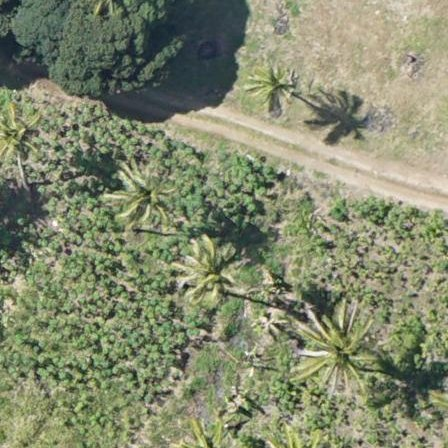palm_tree: (295, 303, 381, 395), (176, 235, 244, 308), (106, 163, 170, 226), (246, 65, 298, 116), (1, 104, 40, 169)
